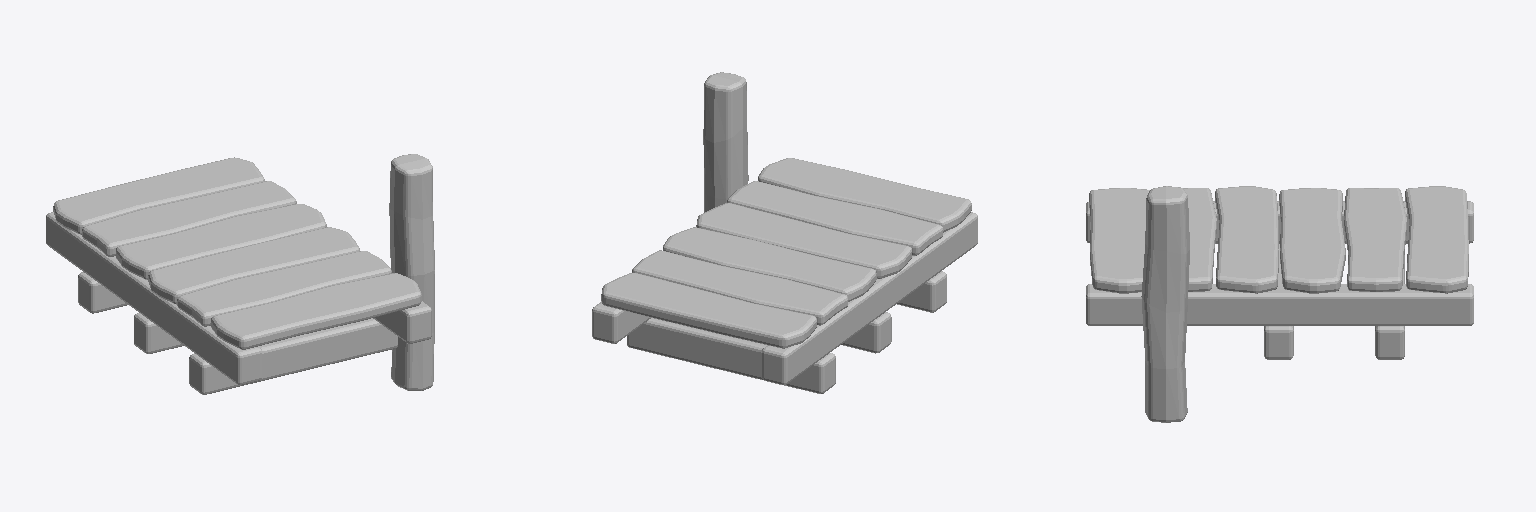
Rendered from SM_bridge_pas_fini.obj.
3 renders of one model, left to right at view 1: azimuth 30°, elevation 25°; view 2: azimuth 150°, elevation 25°; view 3: azimuth 270°, elevation 25°, orthographic.
Visible parts, largest first — view 1: Cube, Cube.002, Cube.003, Cube.001; view 2: Cube, Cube.002, Cube.003, Cube.001; view 3: Cube, Cube.002, Cube.001, Cube.003.
Part boxes in pixels (bbox=[...]): Cube: bbox=[53, 157, 421, 349]; Cube.002: bbox=[46, 212, 431, 384]; Cube.003: bbox=[78, 272, 397, 394]; Cube.001: bbox=[389, 154, 434, 390]; Cube: bbox=[601, 158, 971, 348]; Cube.002: bbox=[592, 212, 977, 384]; Cube.003: bbox=[627, 271, 946, 393]; Cube.001: bbox=[703, 72, 748, 212]; Cube: bbox=[1089, 186, 1468, 293]; Cube.002: bbox=[1086, 201, 1473, 325]; Cube.001: bbox=[1141, 186, 1189, 422]; Cube.003: bbox=[1264, 244, 1404, 359].
Bounding box in the file's own units: 5.98 × 5.42 × 8.54.